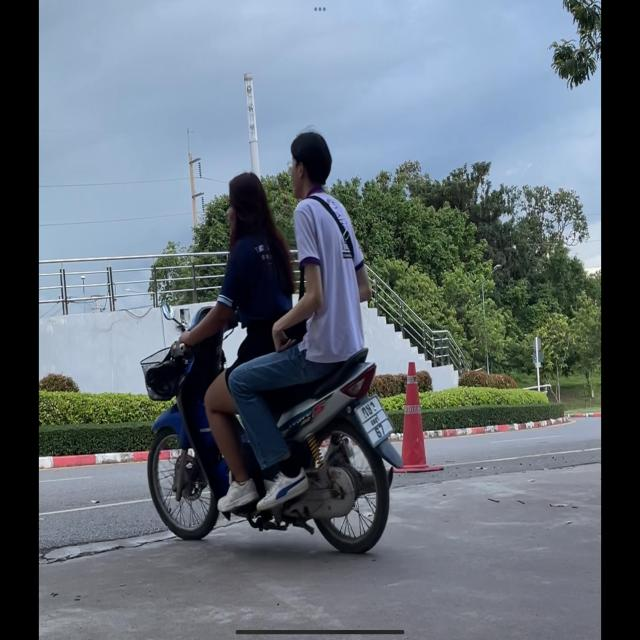seatbelt: (286, 130, 334, 200), (225, 172, 270, 236)
